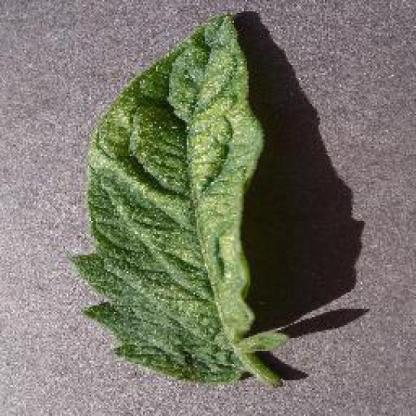Tomato_Spider_Mites: (73, 10, 286, 386)
